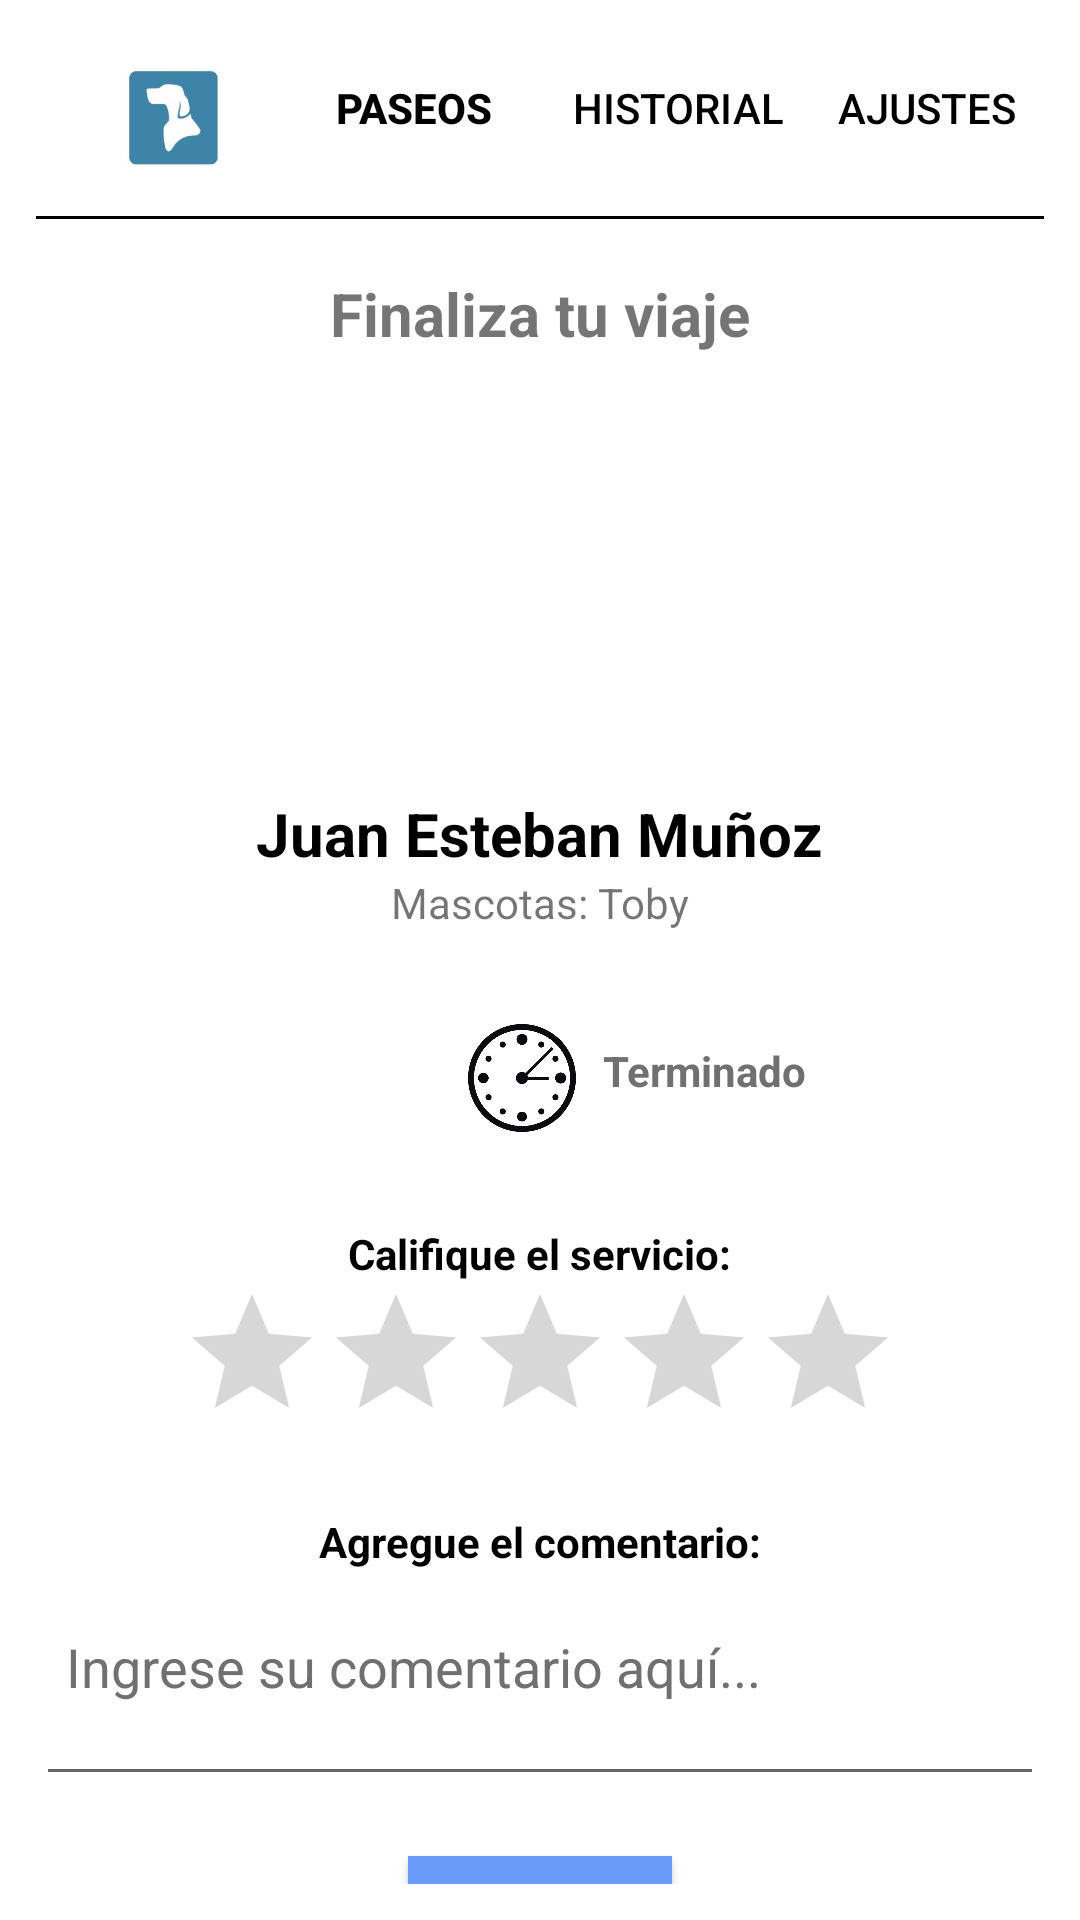

Named icons in this screenshot (1080×1920) and their centers, (x,y):
loguito: (173,118)
